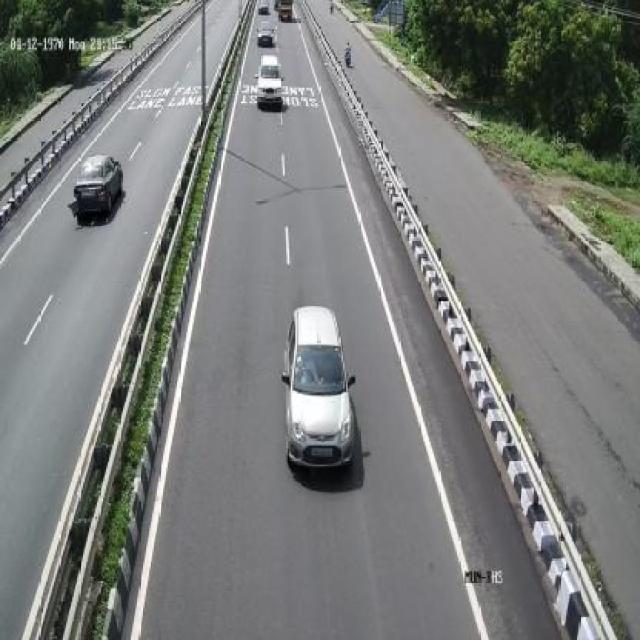car: (283, 297, 359, 481), (74, 149, 128, 226), (256, 52, 282, 106), (257, 12, 275, 50)
